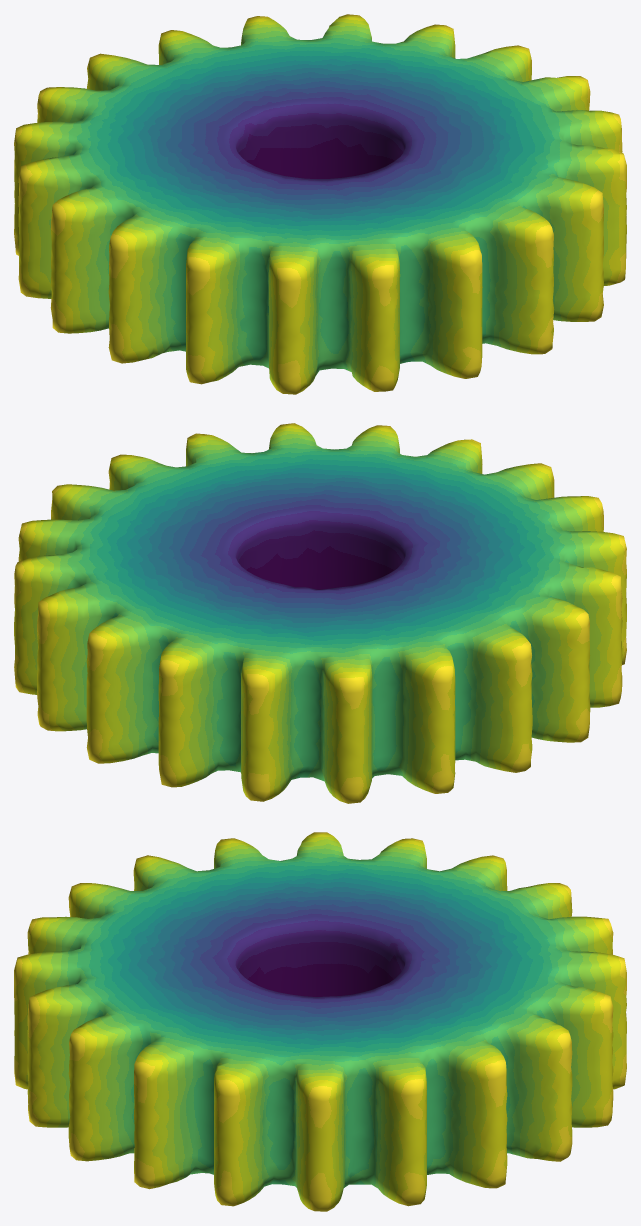
Rendered from spur_gear_m2_N20_core_r6.obj.
The picture shows the model from 3 angles, top to bottom: view 1: azimuth 30°, elevation 25°; view 2: azimuth 150°, elevation 25°; view 3: azimuth 270°, elevation 25°; orthographic projection.
Size of the model in its own units: 2.2 by 0.5003 by 2.2.
